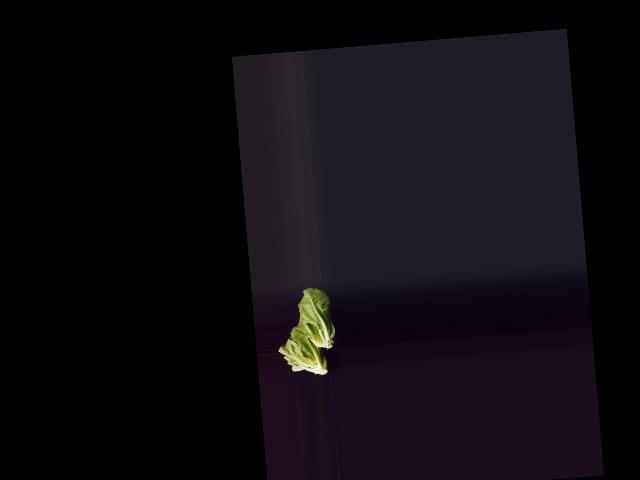lettuce: (276, 313, 334, 378)
